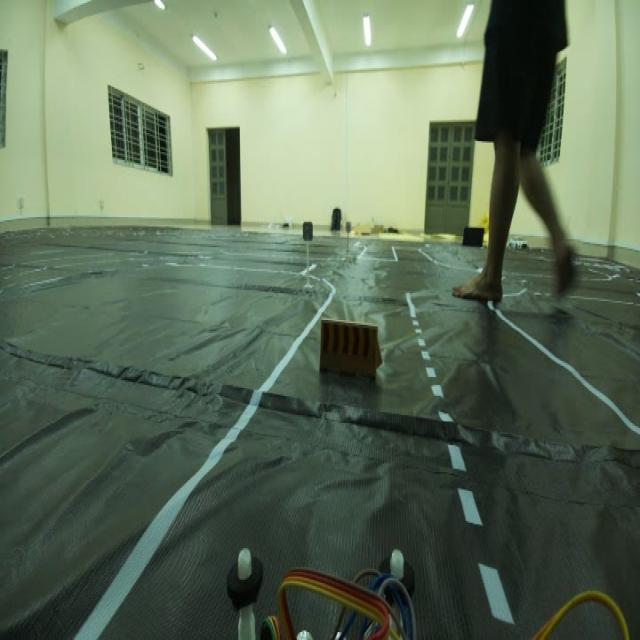roadblock: (308, 307, 394, 404)
